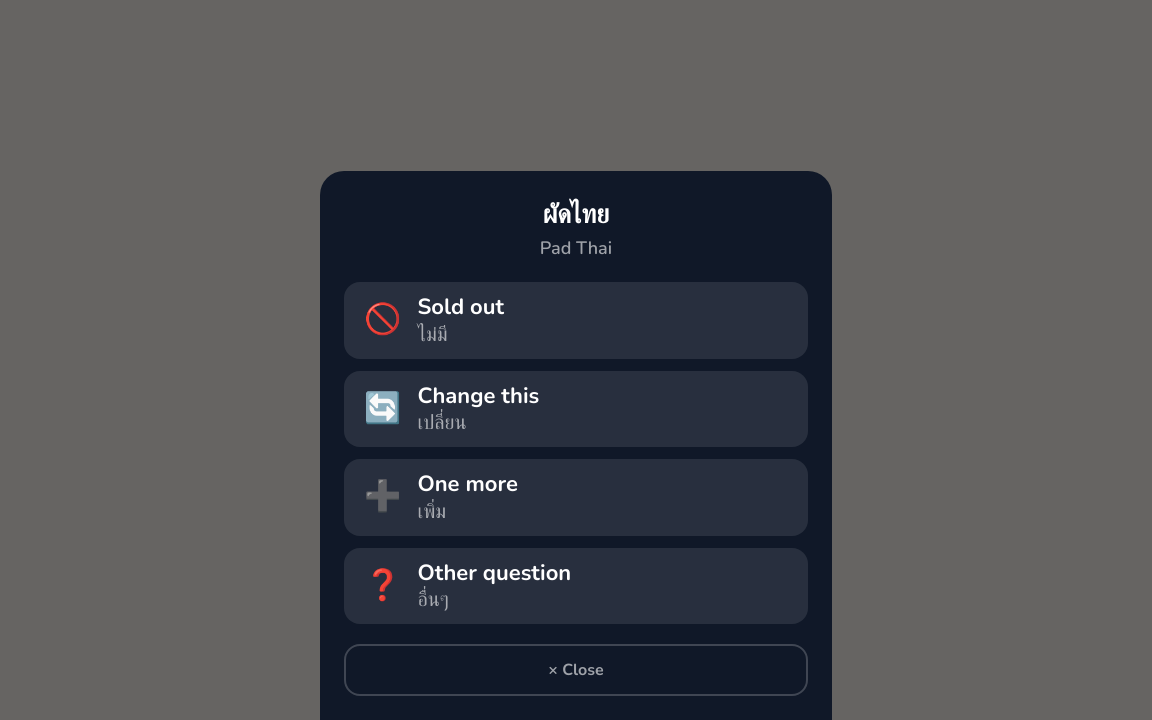
Test: DishCommunicationPanel › click option → shows confirmation screen
The image size is (1152, 720).
Click the text "Sold out".
click(461, 308)  # box 417,294 -> 504,322
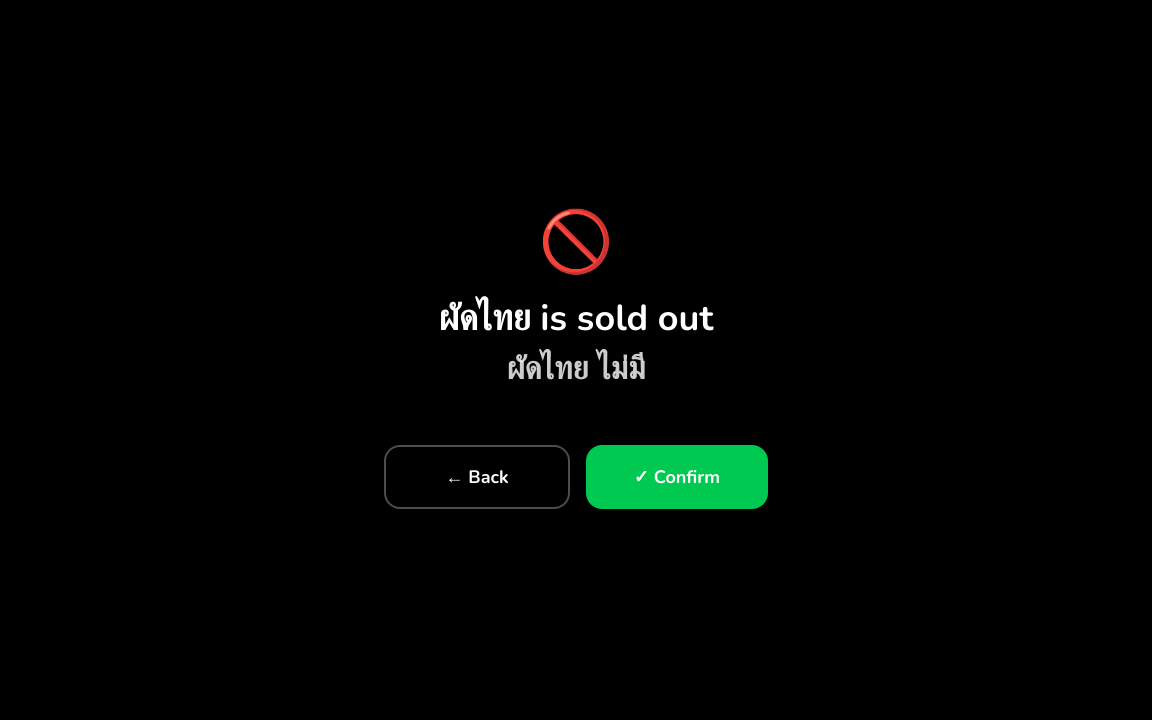
Check: the text "ผัดไทย is sold out" is shown, box 439,296 -> 713,340
